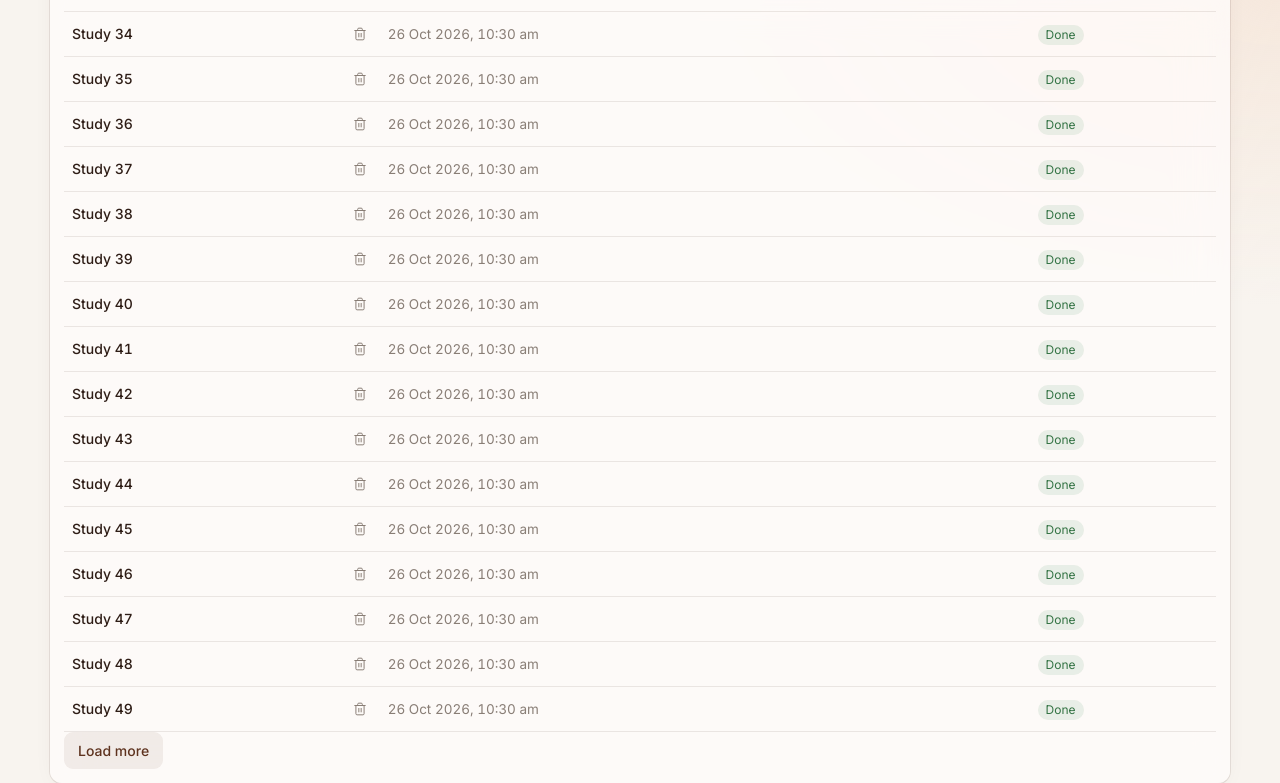
Test: HistoryPage › Load more fetches the next page, hidden on a short page
(page scrolled)
Click the button "Load more" at (114, 750), box [64, 732, 163, 769]
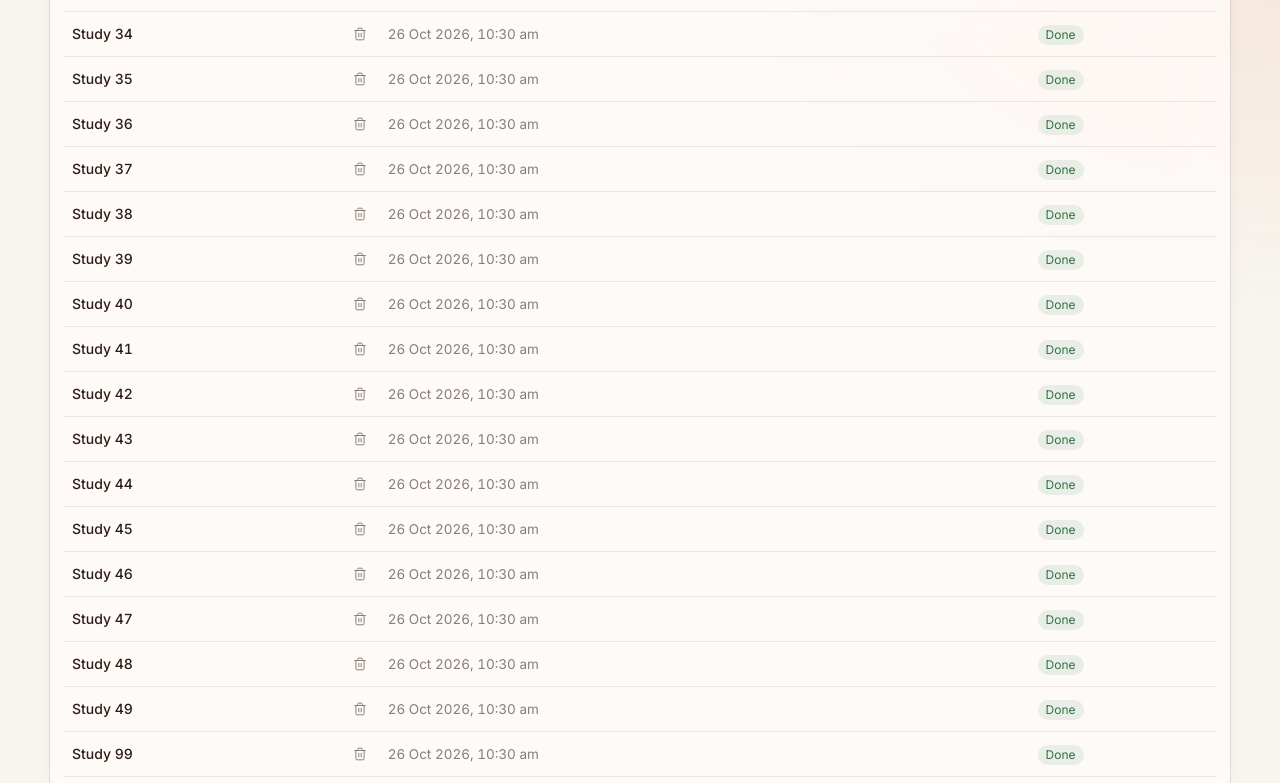
Now the link "Study 99" is shown, box [72, 745, 133, 762]
Now the button "Load more" is gone
